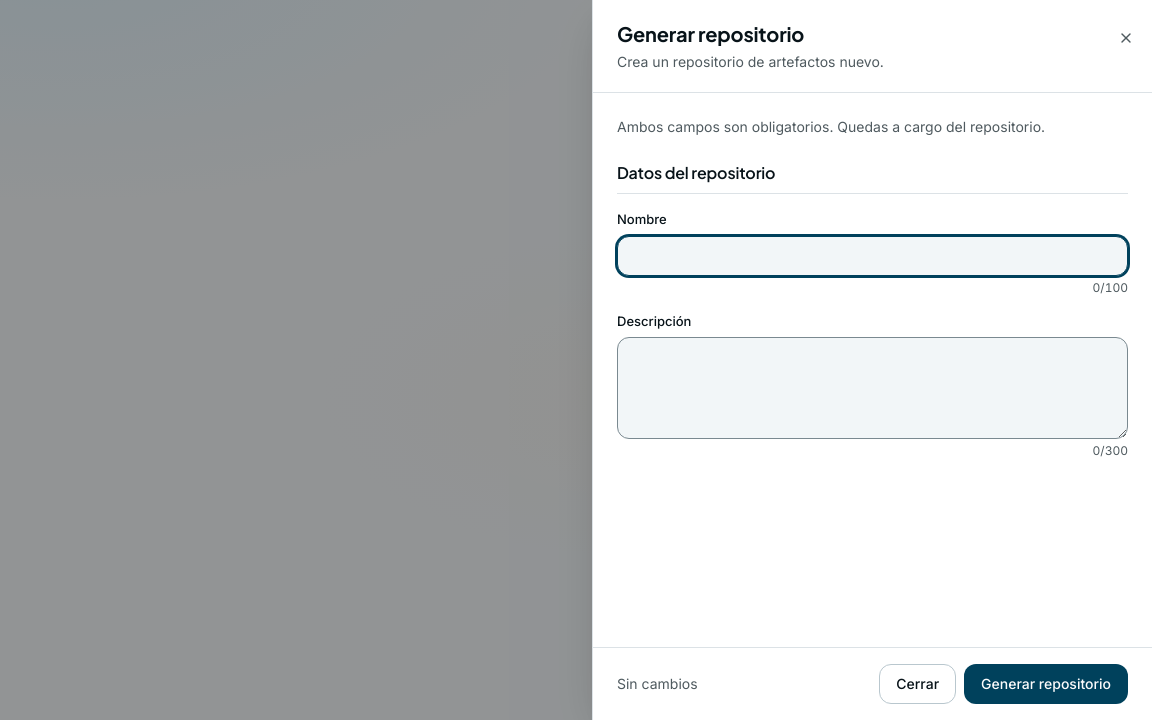
Scenario: GenerarRepositorioPanel › pinta cada fieldError del backend bajo su campo
Step 1. Type "  Repositorio Alfa  " into the field labelled "Nombre" → x=872, y=256, box [617,236,1128,276]
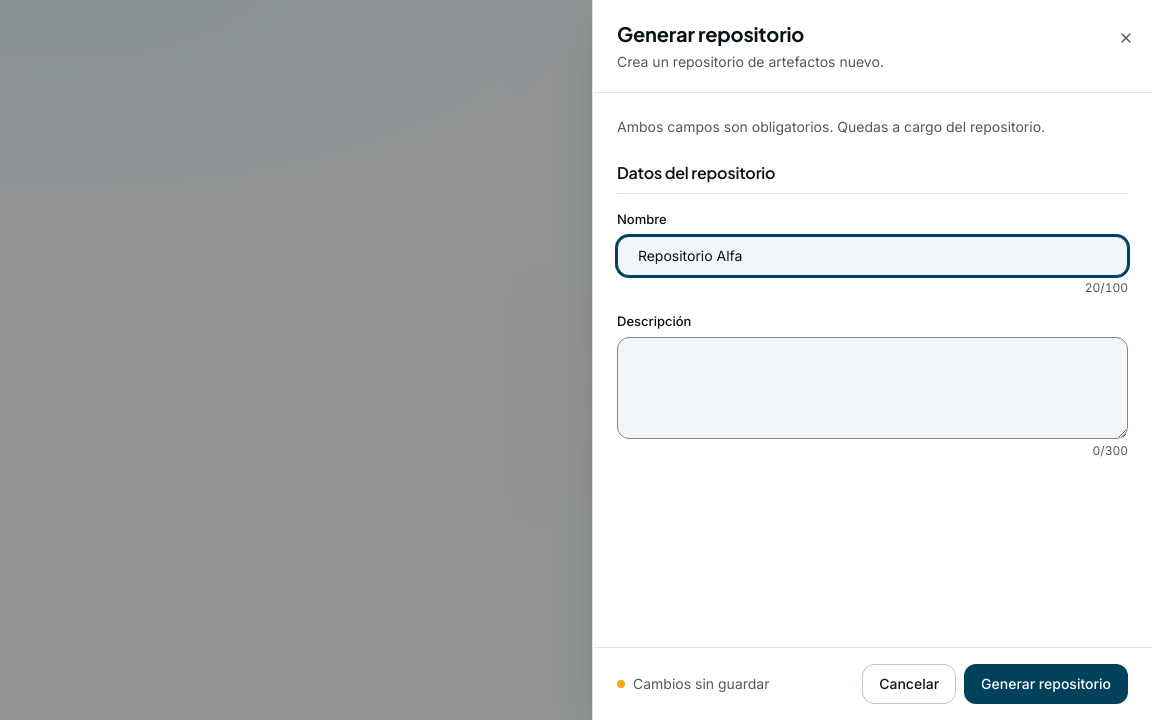
Step 2. Type "Artefactos del semillero" into the text box labelled "Descripción" → x=872, y=388, box [617,337,1128,439]
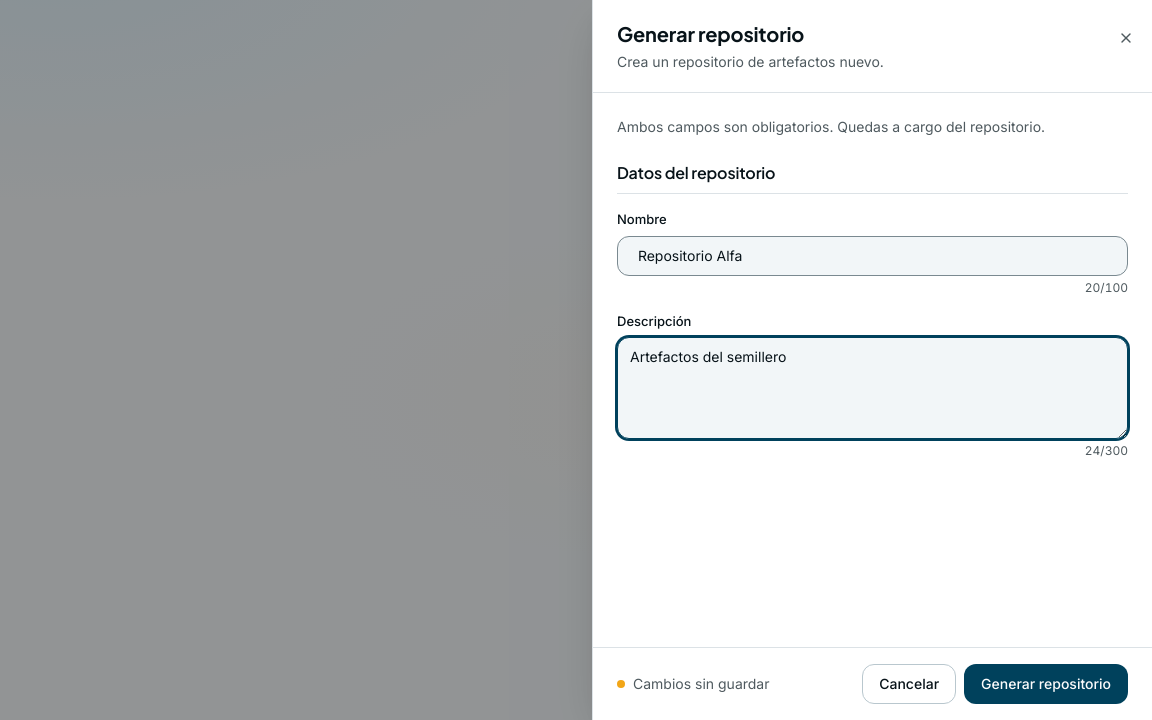
Step 3. Click the button "Generar repositorio" → x=1046, y=684, box [964,664,1128,704]
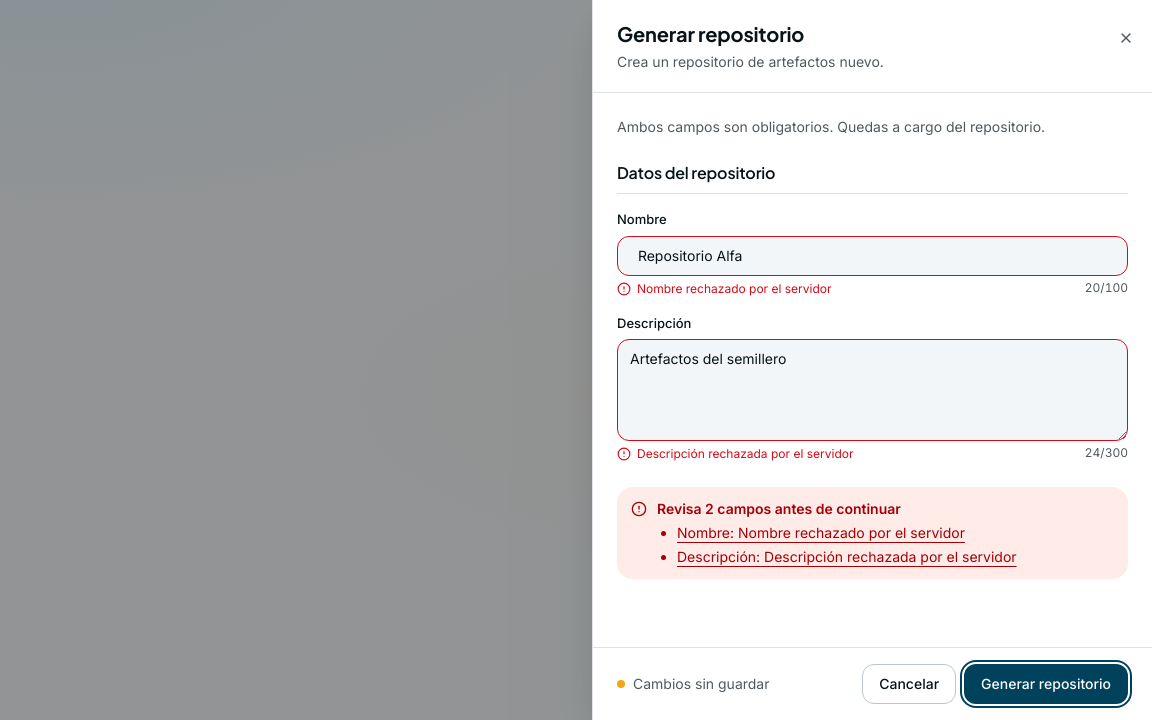
Now the text "Nombre rechazado por el servidor" is shown, box [617,280,832,298]
Now the text "Descripción rechazada por el servidor" is shown, box [617,445,854,463]
